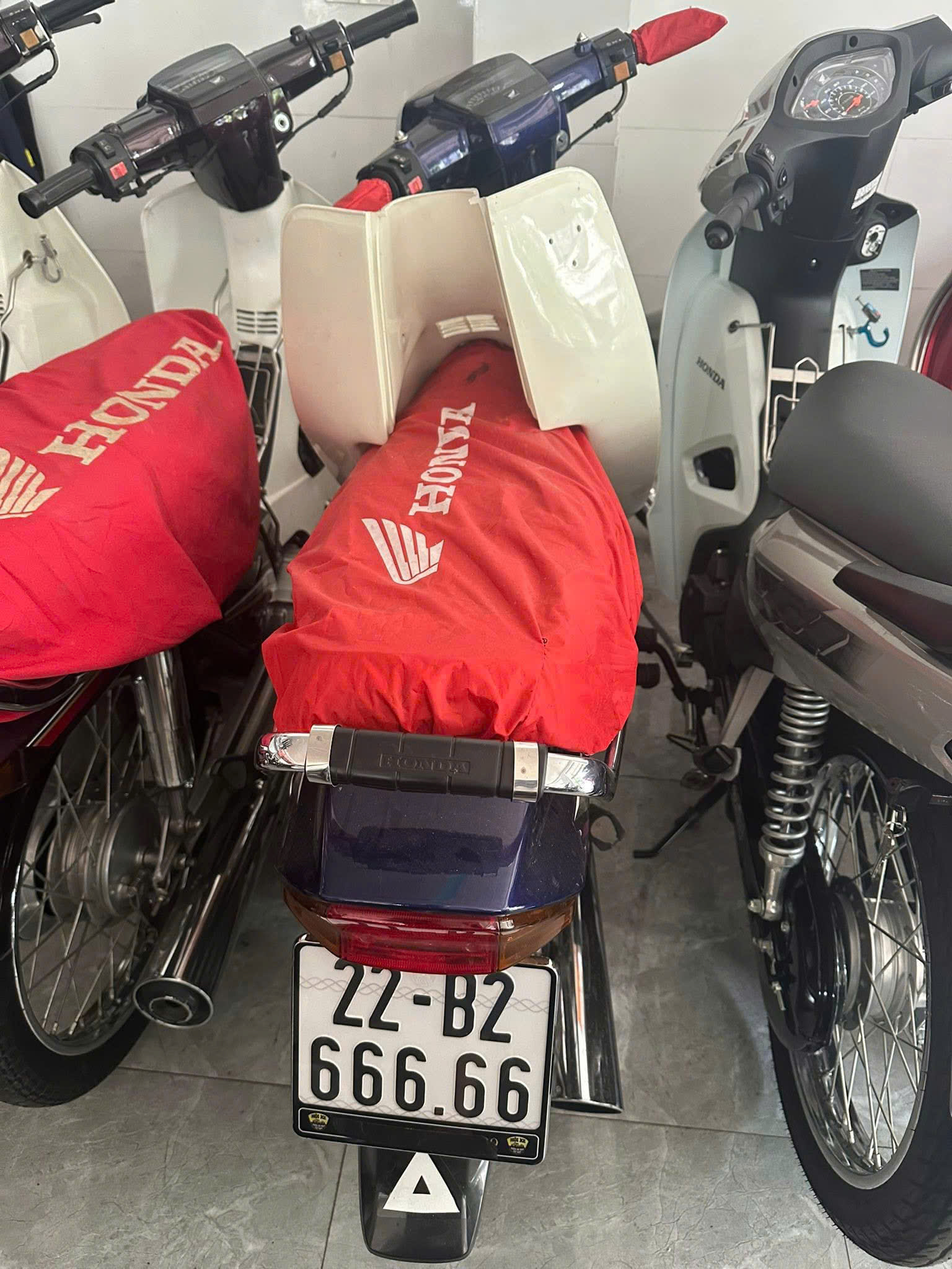Bien-so: (291, 944, 551, 1132)
